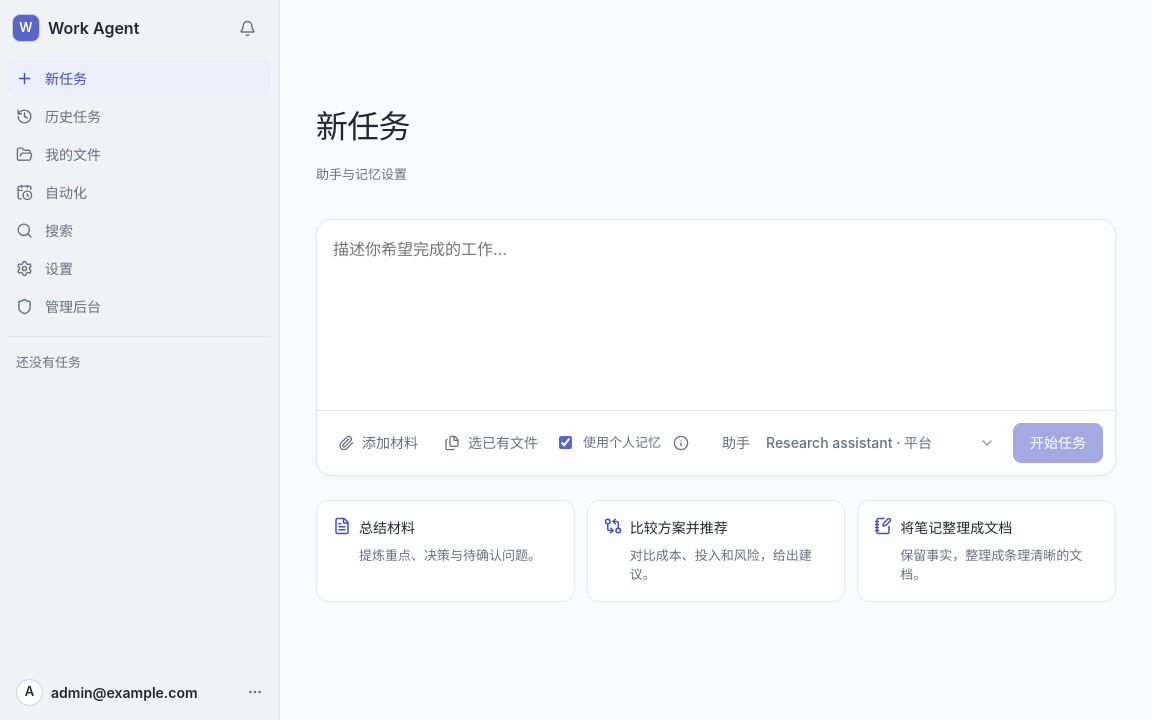
Scenario: administrator role routing › keeps the personal workspace for administrators and links to the admin console
expect the heading "新任务" is shown: met, box [316, 107, 410, 146]
What coordinates should you click on to do the following:
click the link "管理后台"
I would click on:
 (58, 306)
Its box is [16, 298, 101, 314].
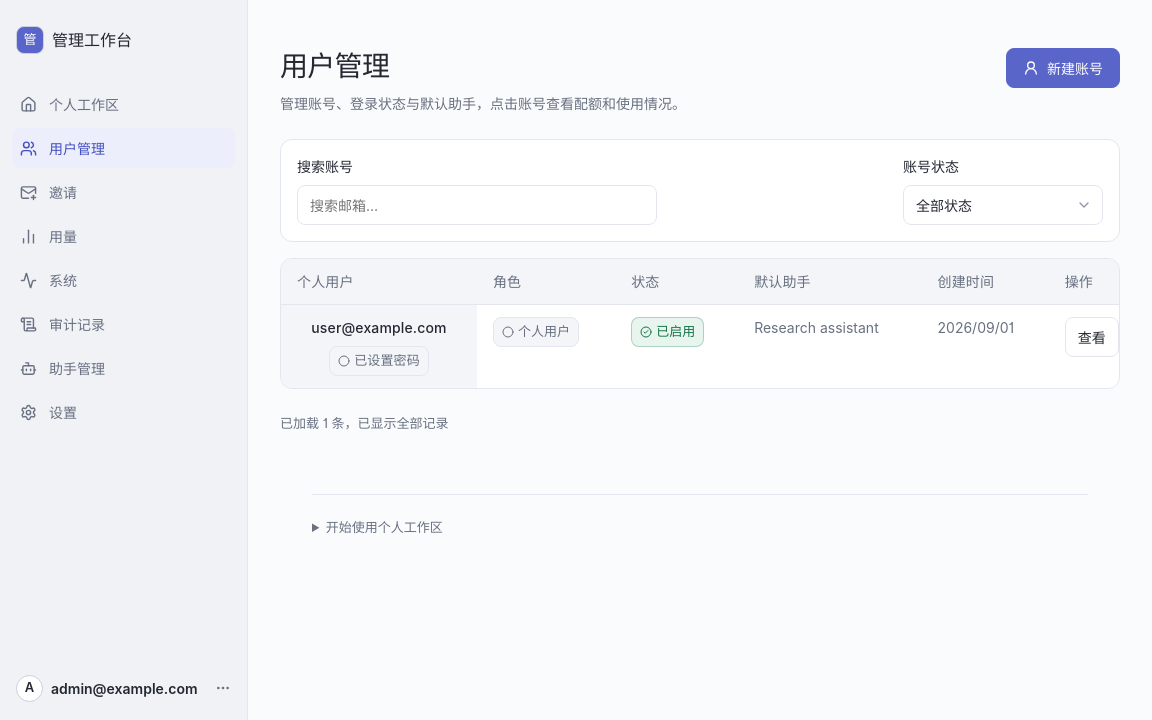
expect the heading "用户管理" is shown: met, box [280, 49, 389, 83]
